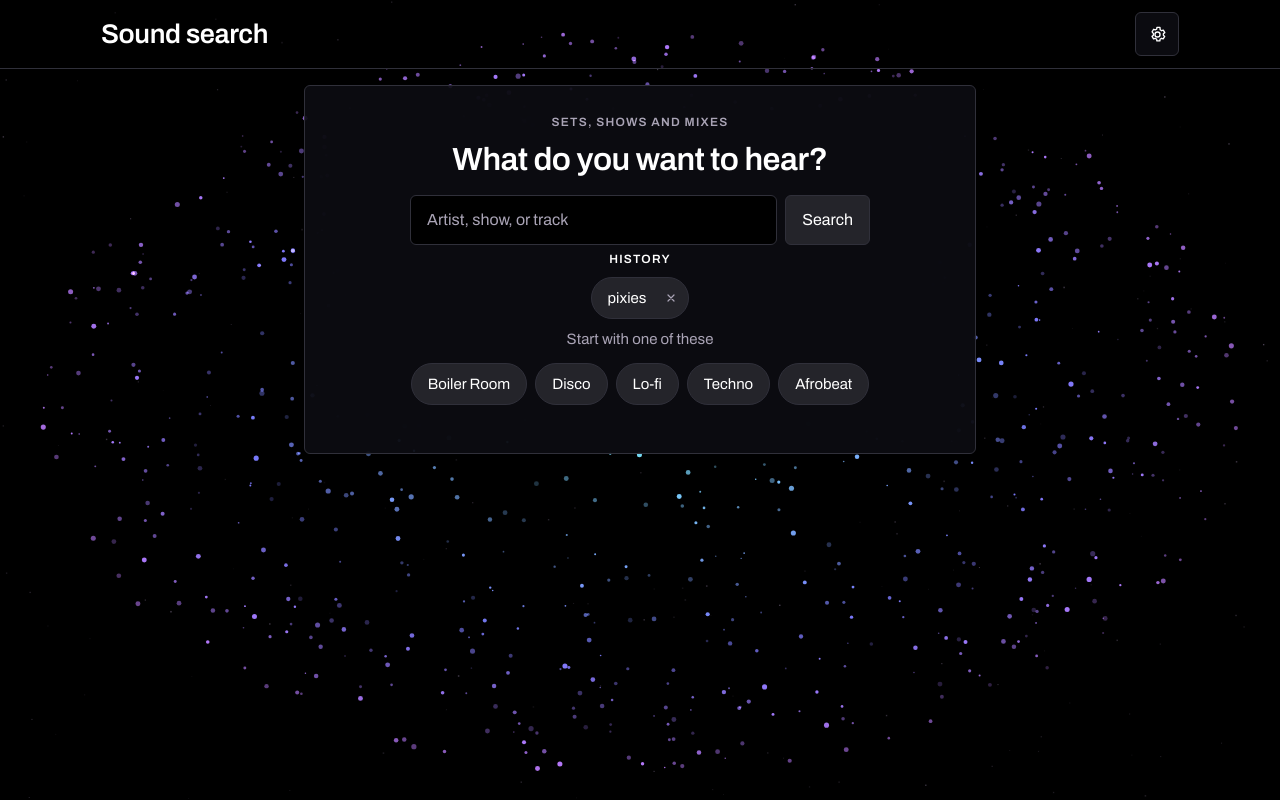
Test: App › starts a search when a recent term is clicked
Click the button "pixies" at (623, 298), box [592,278,654,318]
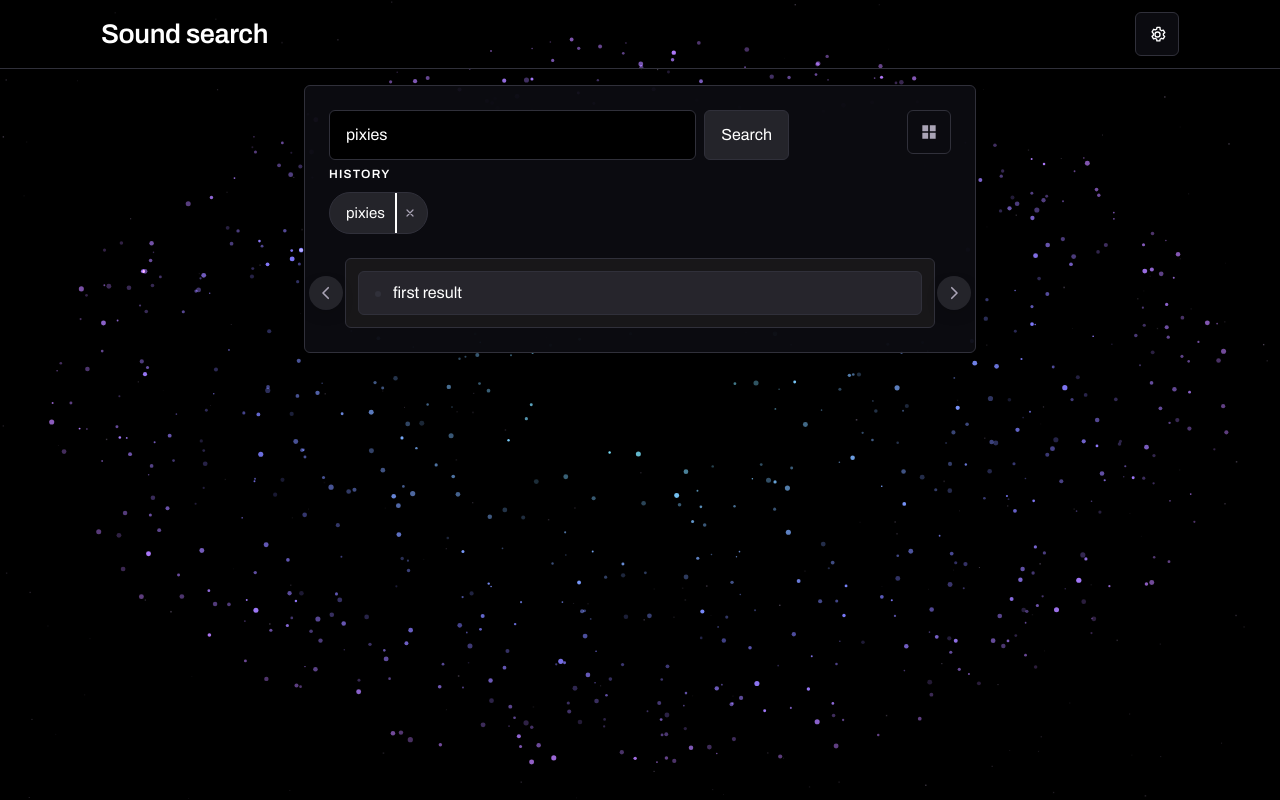
Now the search field named "search tracks" holds "pixies", box [329,110,696,160]
Now the button "first result" is shown, box [358,271,922,315]
